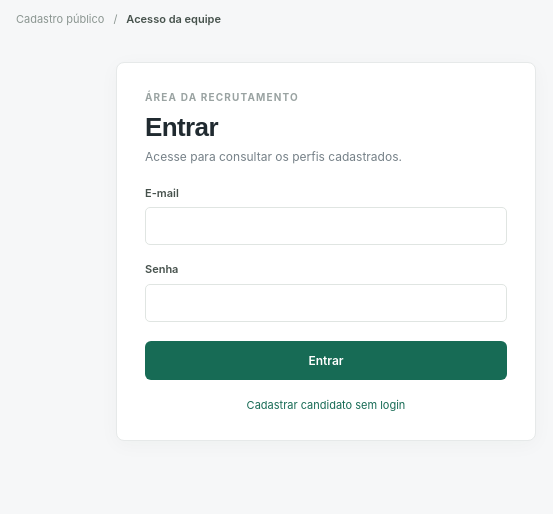
Test: tela de login › exibe a mensagem genérica da API para credenciais incorretas
Type "recrutador@example.test" into the field labelled "E-mail". click: x=326, y=226
box: x1=145 y1=207 x2=507 y2=245
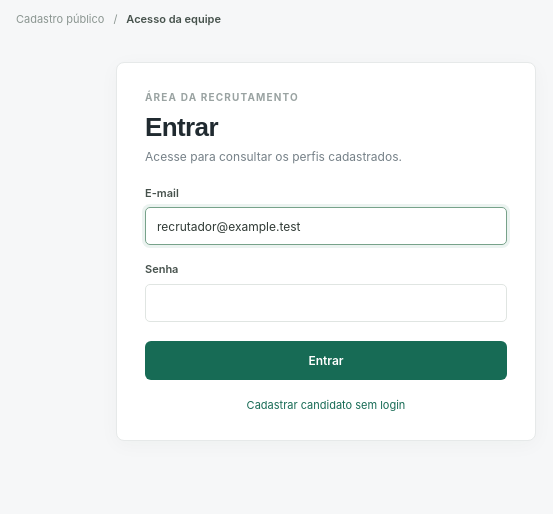
Type "senha errada" into the password field labelled "Senha". click: x=326, y=303
box: x1=145 y1=284 x2=507 y2=322
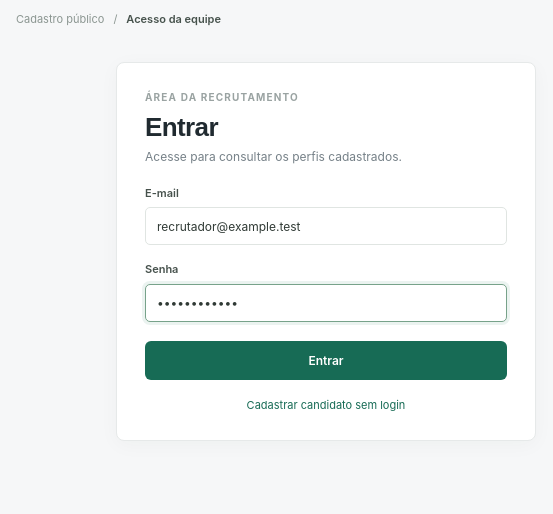
Click the button "Entrar". click: x=326, y=360
box: x1=145 y1=341 x2=507 y2=380
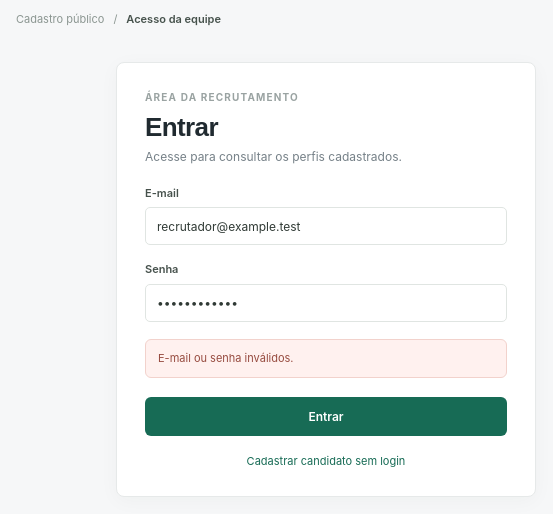
Expected: the message reads "E-mail ou senha inválidos.", x1=158 y1=351 x2=294 y2=365
